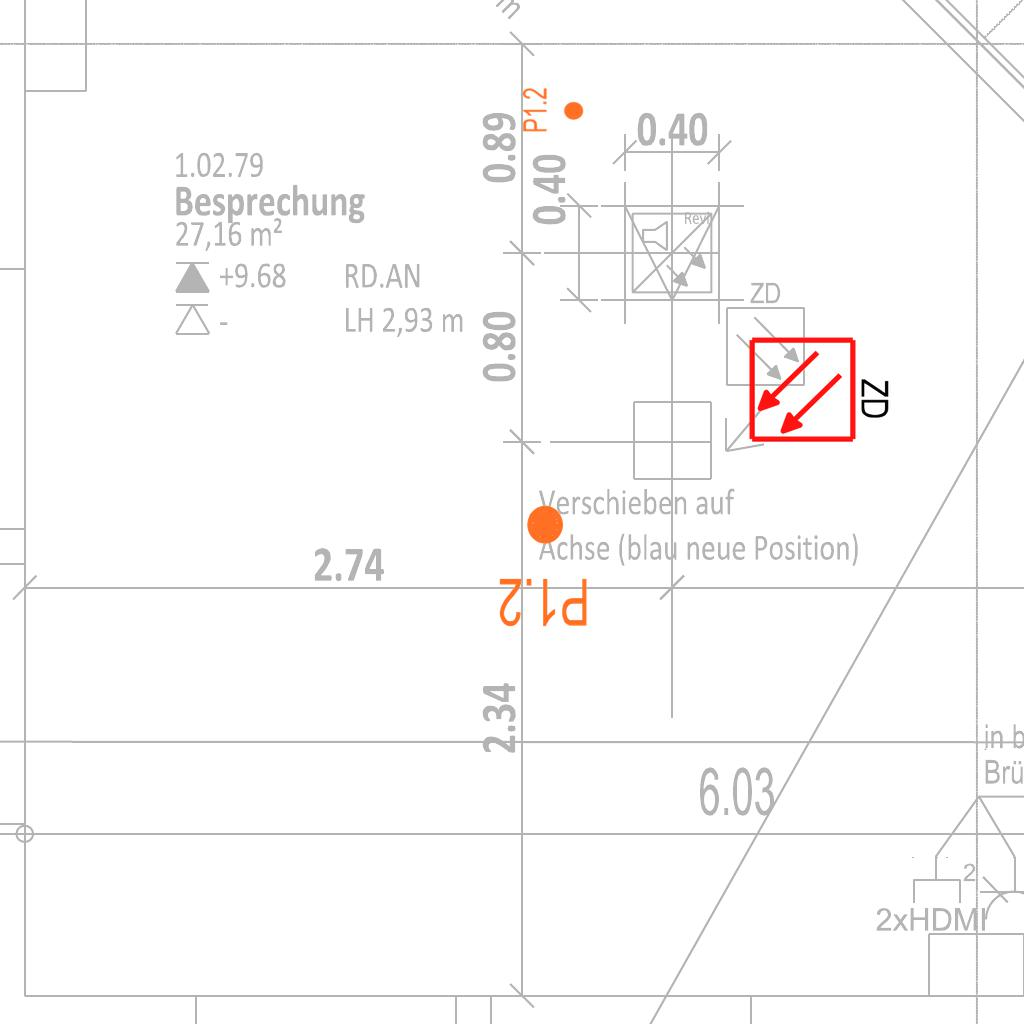Downlight_LED_Einbauleuchten_Flur: (497, 502, 590, 630), (521, 87, 585, 133)
ZD_Melder_in_Zwischendecke_mit_Revisionsoeffnung_mind_40_x_40_cm: (747, 331, 896, 445)
